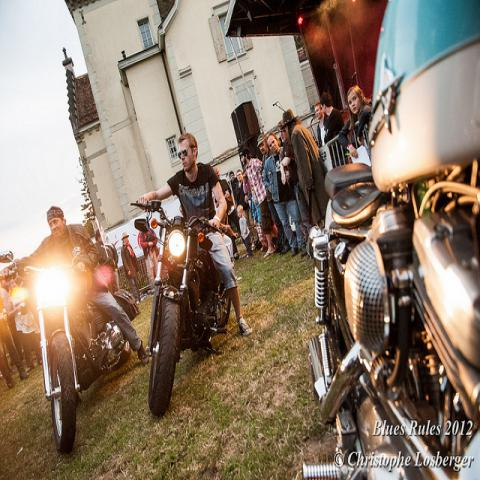motorcycle: (302, 3, 480, 476), (25, 254, 143, 454), (130, 200, 230, 415)
